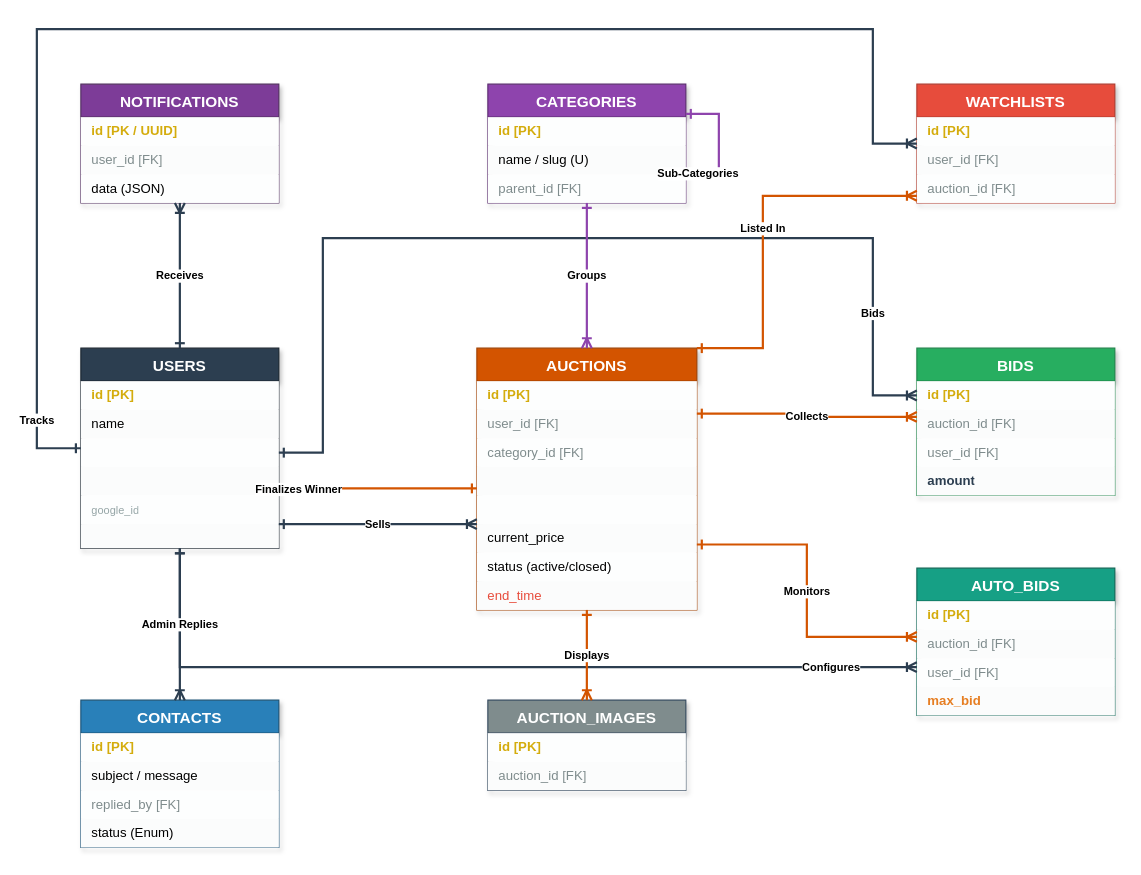
This 1141x875 diagram has some shape labels left out. The centre of each missing label's shape, as x and y in pixels:
email (U): point (179, 452)
role: point (179, 480)
timestamps: point (179, 536)
title: point (586, 509)
winner_id [FK]: point (586, 480)
